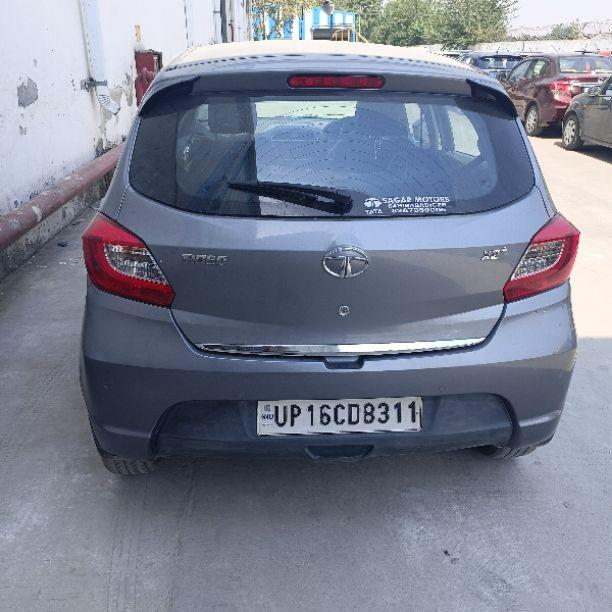license_plate: (255, 395, 423, 436)
